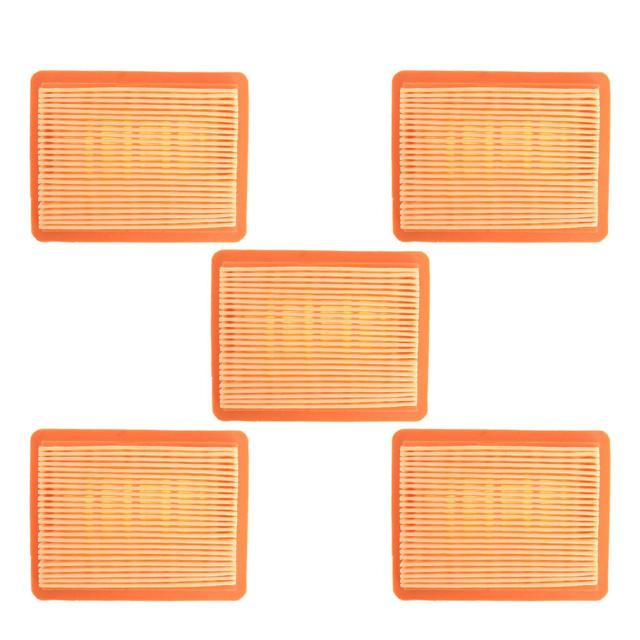air_filter: (388, 423, 613, 609), (27, 67, 254, 246), (25, 425, 251, 604), (388, 66, 613, 245), (208, 249, 432, 423)
